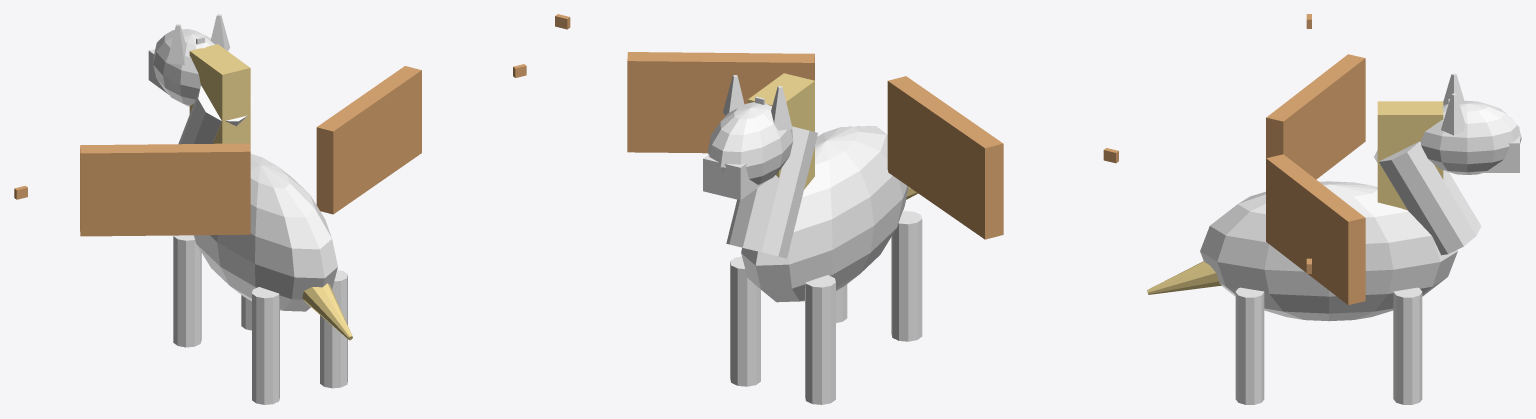
Rendered from pegasus.glb.
3 renders of one model, left to right at view 1: azimuth 30°, elevation 25°; view 2: azimuth 150°, elevation 25°; view 3: azimuth 270°, elevation 25°, orthographic. The views are drawn at different scales.
Visible parts, largest first — view 1: pegasus_wing_L, pegasus_body, pegasus_wing_R, pegasus_surai, pegasus_leg_BL, pegasus_leg_FL, pegasus_head, pegasus_leg_BR, pegasus_neck, pegasus_tail, pegasus_telinga_-1; view 2: pegasus_body, pegasus_wing_L, pegasus_wing_R, pegasus_neck, pegasus_head, pegasus_leg_BL, pegasus_leg_FL, pegasus_leg_FR, pegasus_surai, pegasus_moncong, pegasus_telinga_-1, pegasus_telinga_1; view 3: pegasus_body, pegasus_wing_R, pegasus_wing_L, pegasus_neck, pegasus_head, pegasus_surai, pegasus_leg_FR, pegasus_leg_BR, pegasus_tail, pegasus_telinga_1, pegasus_moncong, pegasus_telinga_-1.
Part boxes in pixels (box(x1,y1,x2,y2)): pegasus_wing_L: box(80, 143, 250, 236); pegasus_body: box(193, 153, 337, 311); pegasus_wing_R: box(316, 66, 421, 214); pegasus_surai: box(189, 44, 250, 151); pegasus_leg_BL: box(252, 287, 279, 404); pegasus_leg_FL: box(173, 235, 201, 347); pegasus_head: box(153, 29, 214, 106); pegasus_leg_BR: box(320, 270, 347, 388); pegasus_neck: box(178, 86, 253, 144); pegasus_tail: box(302, 283, 352, 340); pegasus_telinga_-1: box(167, 24, 186, 65); pegasus_body: box(741, 126, 908, 302); pegasus_wing_L: box(887, 76, 1003, 239); pegasus_wing_R: box(627, 52, 814, 153); pegasus_neck: box(726, 126, 817, 258); pegasus_head: box(708, 102, 793, 184); pegasus_leg_BL: box(891, 211, 922, 341); pegasus_leg_FL: box(805, 275, 835, 404); pegasus_leg_FR: box(730, 256, 760, 386); pegasus_surai: box(748, 73, 814, 189); pegasus_moncong: box(703, 154, 766, 200); pegasus_telinga_-1: box(771, 86, 792, 130); pegasus_telinga_1: box(723, 75, 744, 115); pegasus_body: box(1200, 181, 1457, 321); pegasus_wing_R: box(1266, 154, 1365, 305); pegasus_wing_L: box(1266, 54, 1365, 179); pegasus_neck: box(1374, 141, 1481, 255); pegasus_head: box(1420, 100, 1521, 174); pegasus_surai: box(1377, 101, 1443, 210); pegasus_leg_FR: box(1393, 287, 1422, 404); pegasus_leg_BR: box(1235, 287, 1264, 404); pegasus_tail: box(1147, 261, 1221, 294); pegasus_telinga_1: box(1441, 93, 1465, 135); pegasus_moncong: box(1472, 126, 1519, 172); pegasus_telinga_-1: box(1443, 73, 1464, 105).
Bounding box in the file's own units: 4.5 × 2.5 × 2.85.
